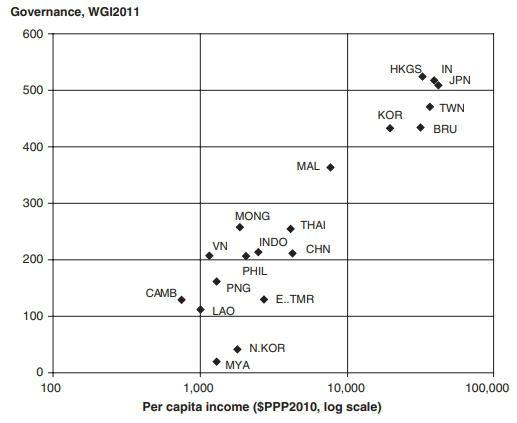axis: (55, 366, 496, 382), (46, 31, 59, 375)
point: (324, 162, 337, 174), (384, 124, 396, 134), (211, 357, 223, 367), (425, 101, 435, 112), (416, 122, 426, 133), (211, 276, 222, 286), (235, 222, 245, 232), (285, 225, 296, 234), (287, 249, 298, 258), (260, 294, 269, 305), (233, 344, 242, 355), (429, 74, 438, 84), (434, 81, 443, 91), (241, 251, 251, 260), (204, 251, 214, 260), (177, 295, 187, 304), (195, 306, 206, 314), (254, 247, 263, 256), (419, 72, 427, 81)
